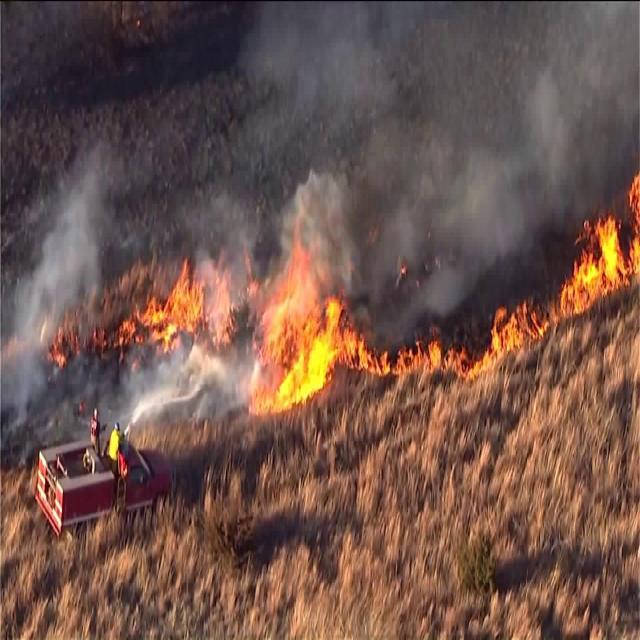Fire: (121, 241, 392, 434), (469, 202, 632, 356)
Smoke: (230, 4, 640, 262), (2, 101, 125, 409)
